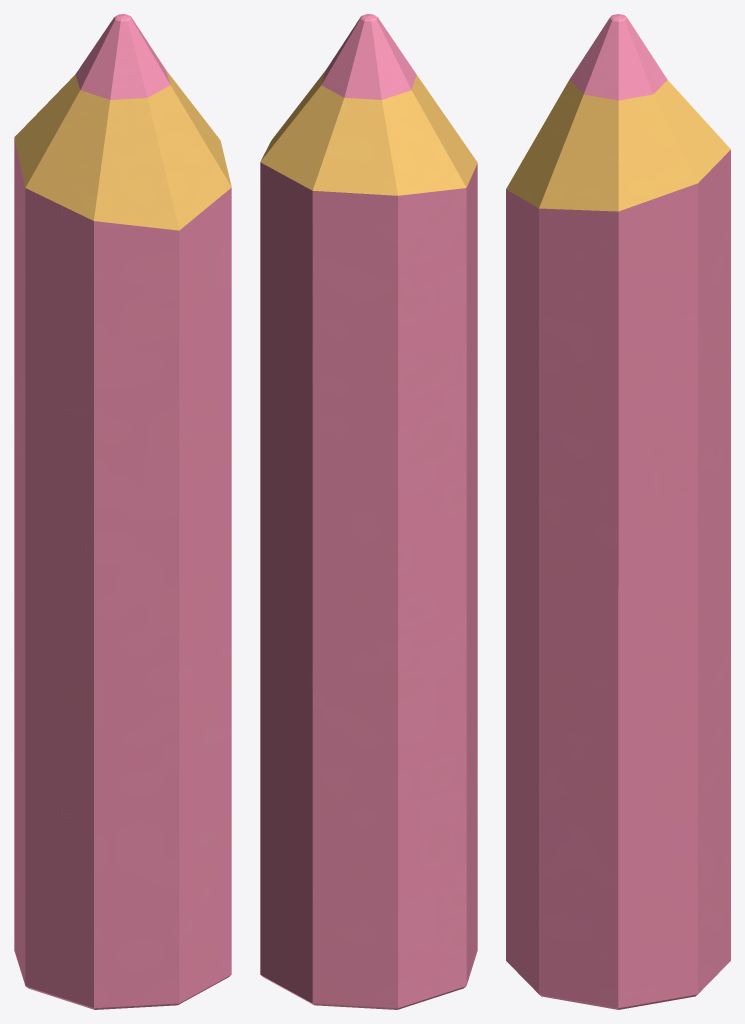
Rendered from Pen_2.fbx.
3 renders of one model, left to right at view 1: azimuth 30°, elevation 25°; view 2: azimuth 150°, elevation 25°; view 3: azimuth 270°, elevation 25°, orthographic.
Parts seen in each view (by area): view 1: Cylinder.005; view 2: Cylinder.005; view 3: Cylinder.005.
Part boxes in pixels (x1,y1,x2,y2): Cylinder.005: (14, 14, 231, 1009); Cylinder.005: (260, 14, 477, 1009); Cylinder.005: (506, 14, 730, 1009).
Bounding box in the file's own units: 129 × 599 × 129.
